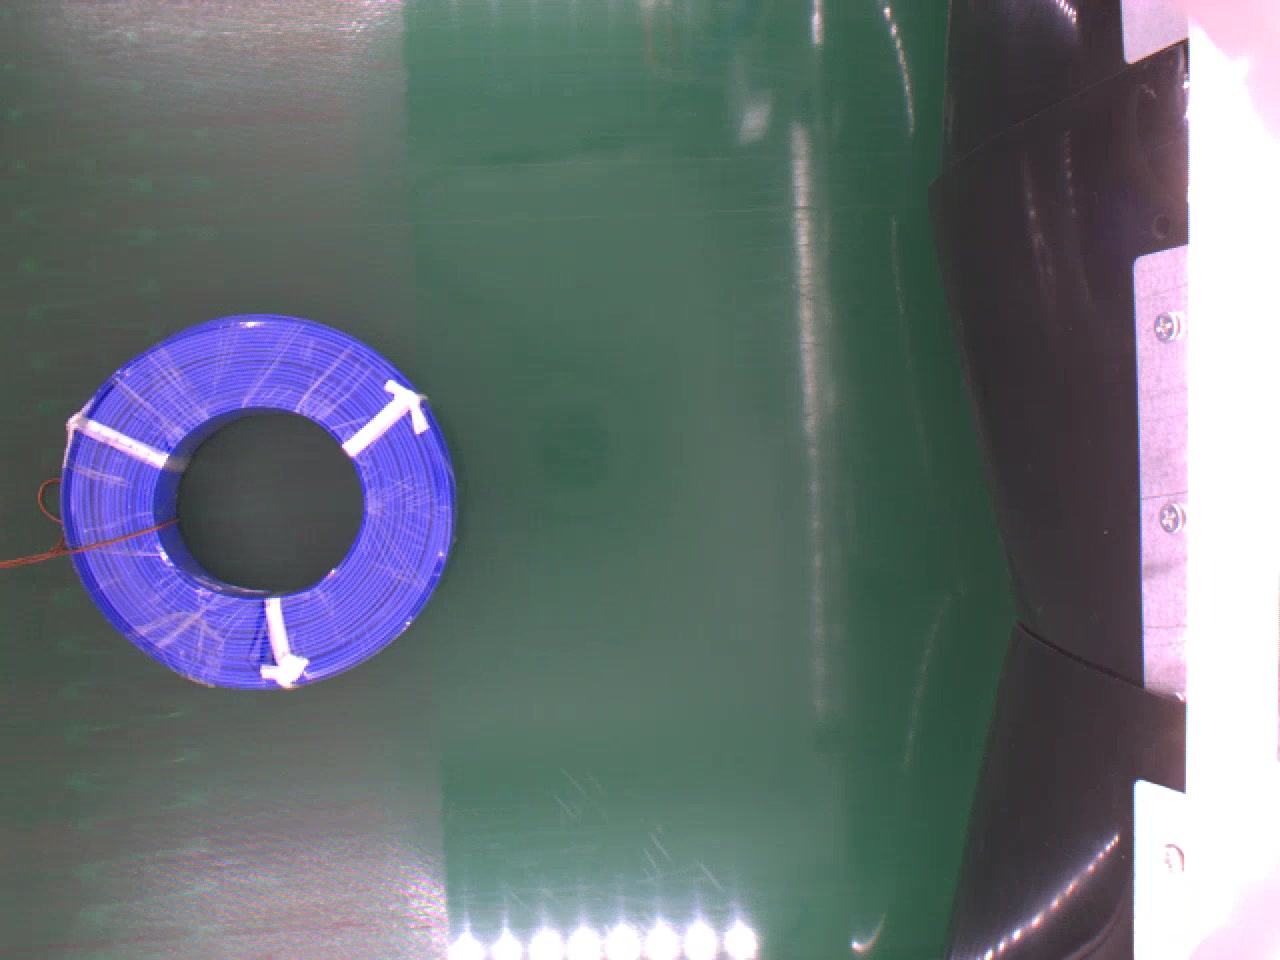blue: (60, 312, 452, 685)
